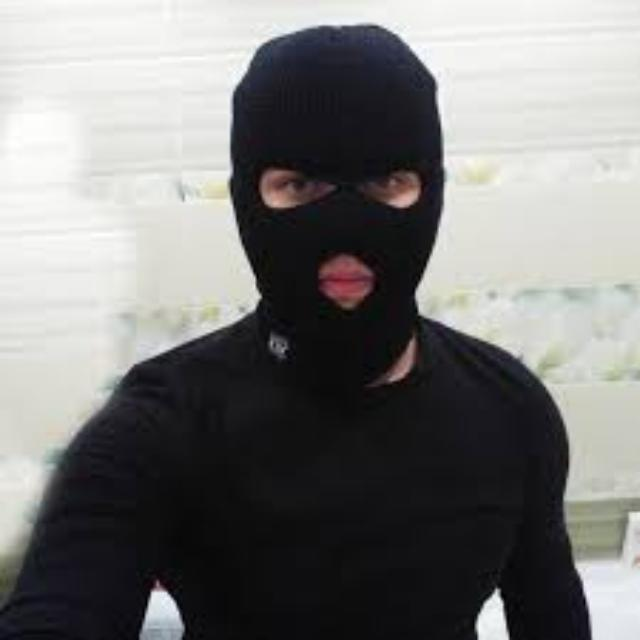criminal: (0, 23, 592, 640)
